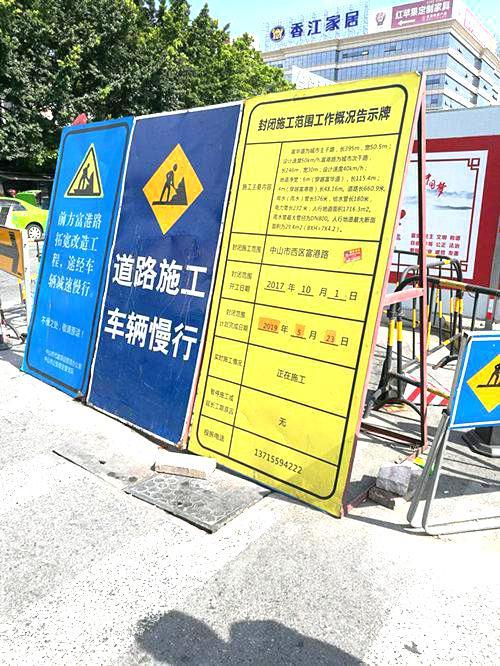sign: (21, 108, 228, 448)
